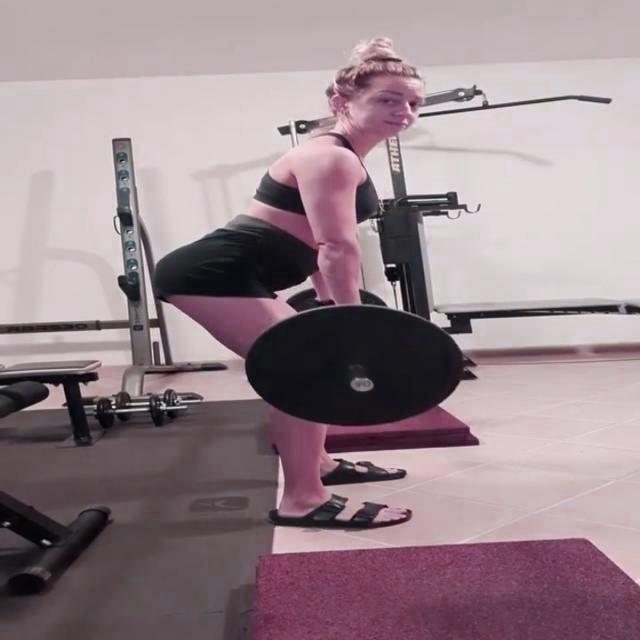barbell: (238, 300, 470, 429)
